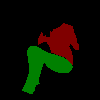jeans: (22, 45, 72, 94)
maglia: (38, 22, 79, 64)
